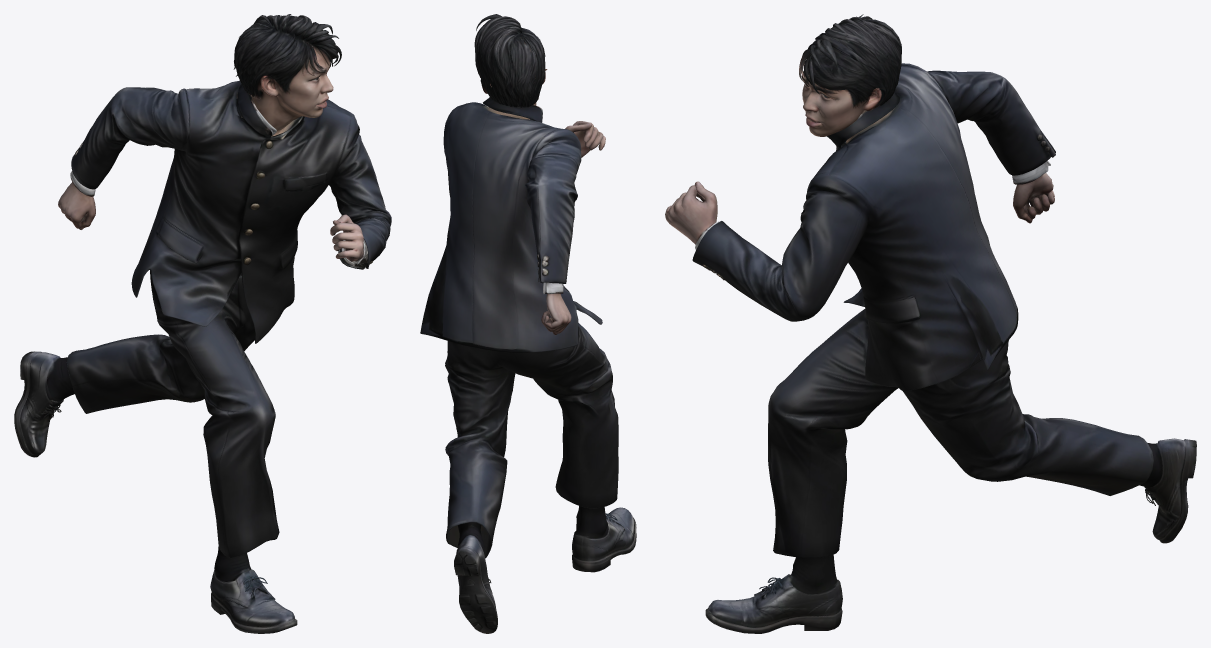
Rendered from run_man_2-249501bc75.glb.
The picture shows the model from 3 angles, left to right: view 1: azimuth 30°, elevation 25°; view 2: azimuth 150°, elevation 25°; view 3: azimuth 270°, elevation 25°; orthographic projection. The views are drawn at different scales.
Visible parts, largest first — view 1: tripo_node_763f6206-8d5a-462c-a33e-32460b5aa02e; view 2: tripo_node_763f6206-8d5a-462c-a33e-32460b5aa02e; view 3: tripo_node_763f6206-8d5a-462c-a33e-32460b5aa02e.
Boxes of the visible parts, left/top/right/bottom form: tripo_node_763f6206-8d5a-462c-a33e-32460b5aa02e: left=14, top=14, right=391, bottom=633; tripo_node_763f6206-8d5a-462c-a33e-32460b5aa02e: left=420, top=14, right=636, bottom=633; tripo_node_763f6206-8d5a-462c-a33e-32460b5aa02e: left=665, top=14, right=1196, bottom=633.
Bounding box in the file's own units: 0.4155 × 0.9995 × 0.7505.
Materials: 1 (1 with a texture image).
